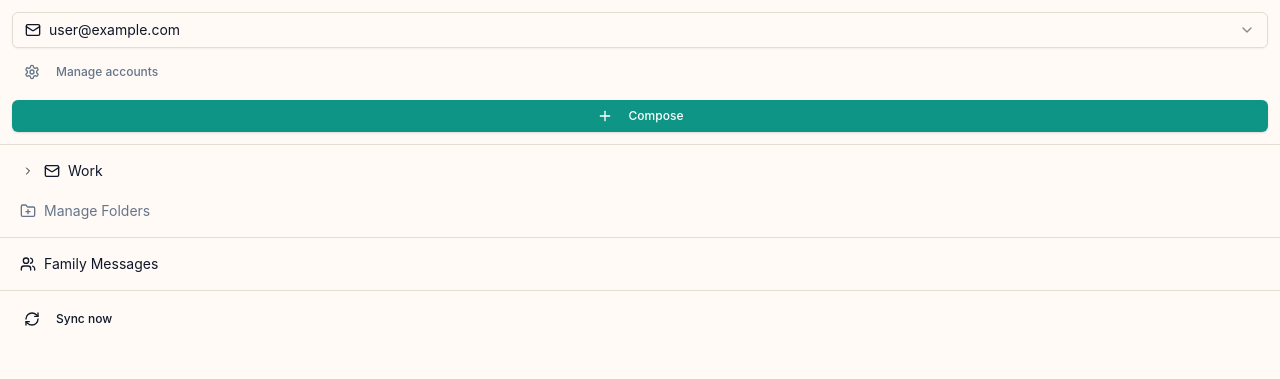
Scenario: EmailSidebar › nested folders › should toggle nested folders visibility when expand button is clicked
Click the button named "Expand folder": (28, 171) [20,163,36,179]
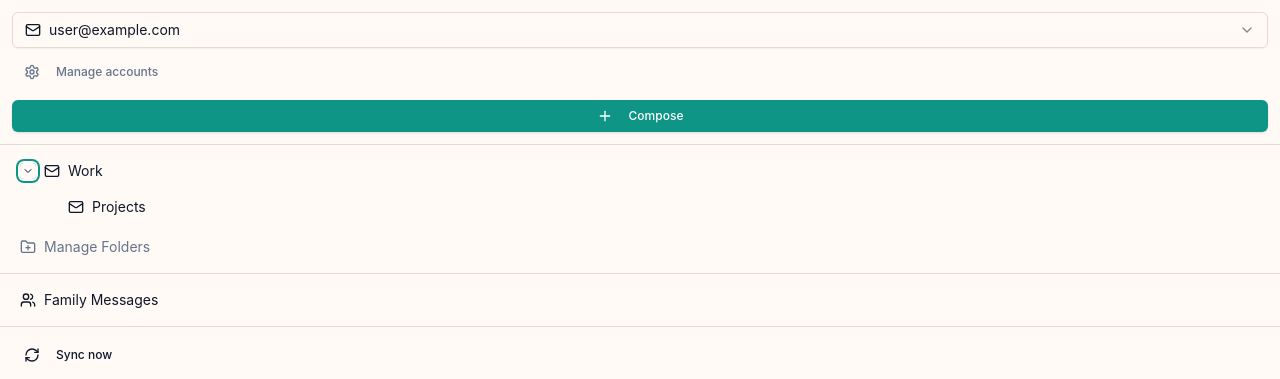
Now the text "Projects" is shown, box [92,198,146,215]
